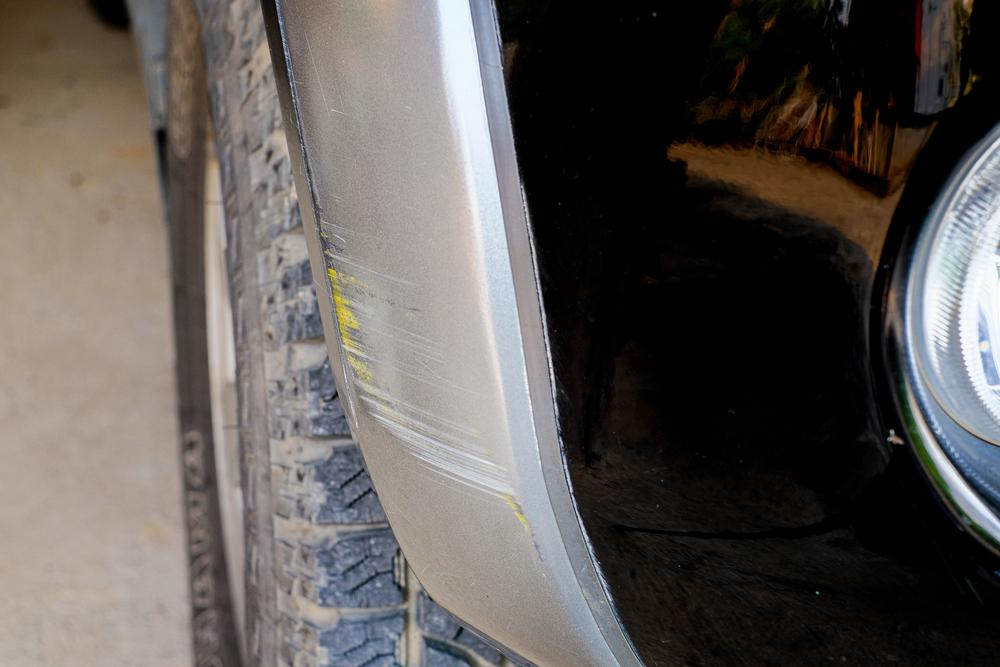scratch: (274, 0, 545, 558)
